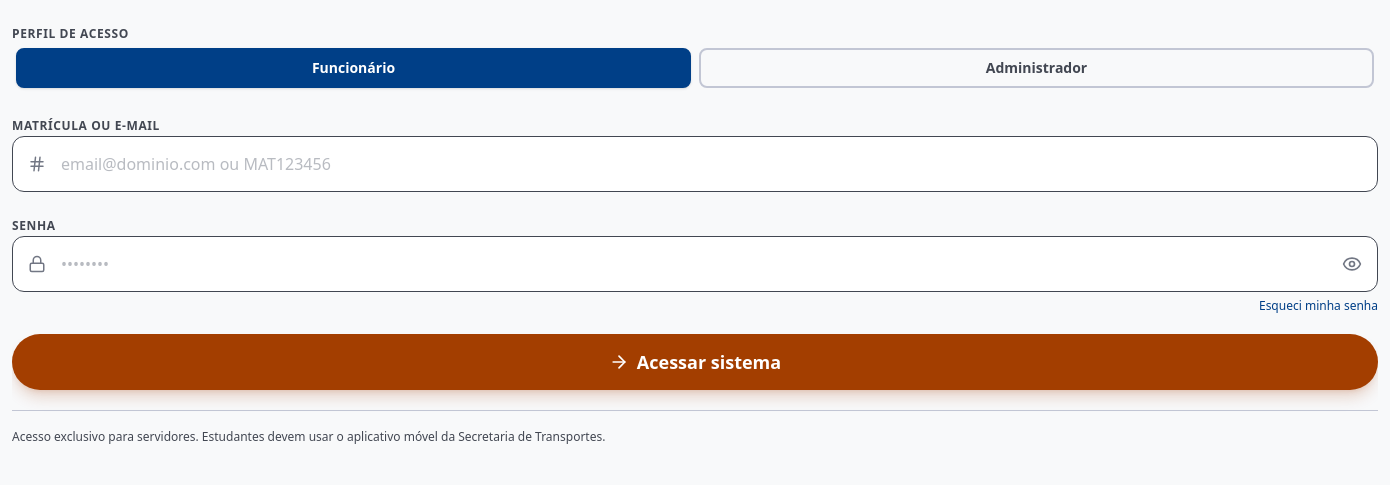
Scenario: EmployeeAdminLoginForm › deve exibir erro geral quando autenticacao falha
The image size is (1390, 485).
Type "MAT123456" into the field with placeholder "email@dominio.com ou MAT123456" at (695, 164), box x1=12 y1=136 x2=1378 y2=192
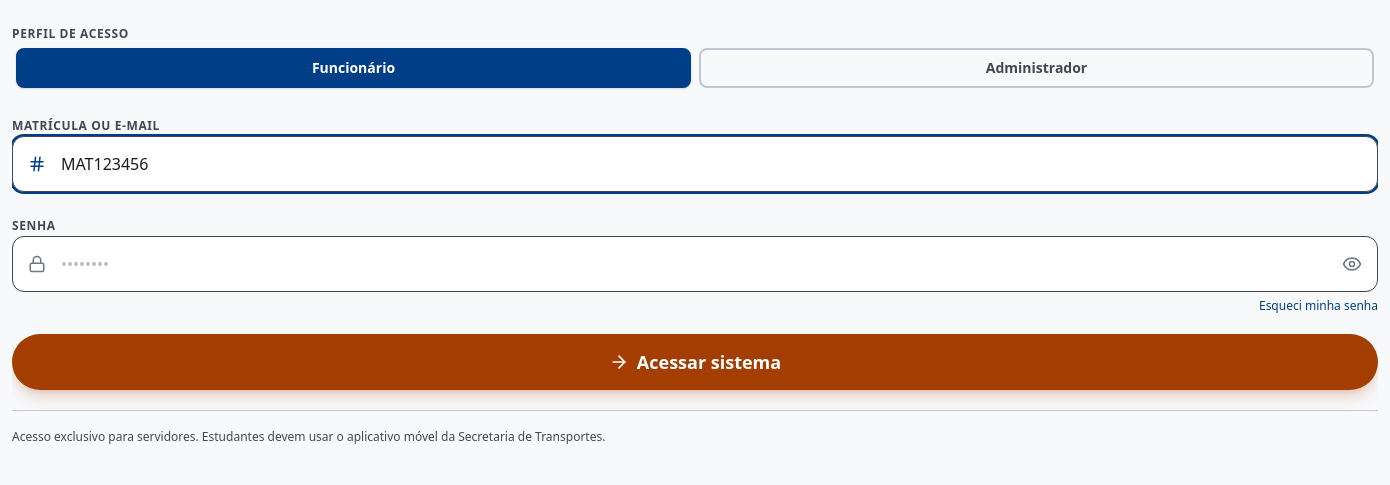
Type "Senha123" into the password field with placeholder "••••••••" at (695, 264), box x1=12 y1=236 x2=1378 y2=292
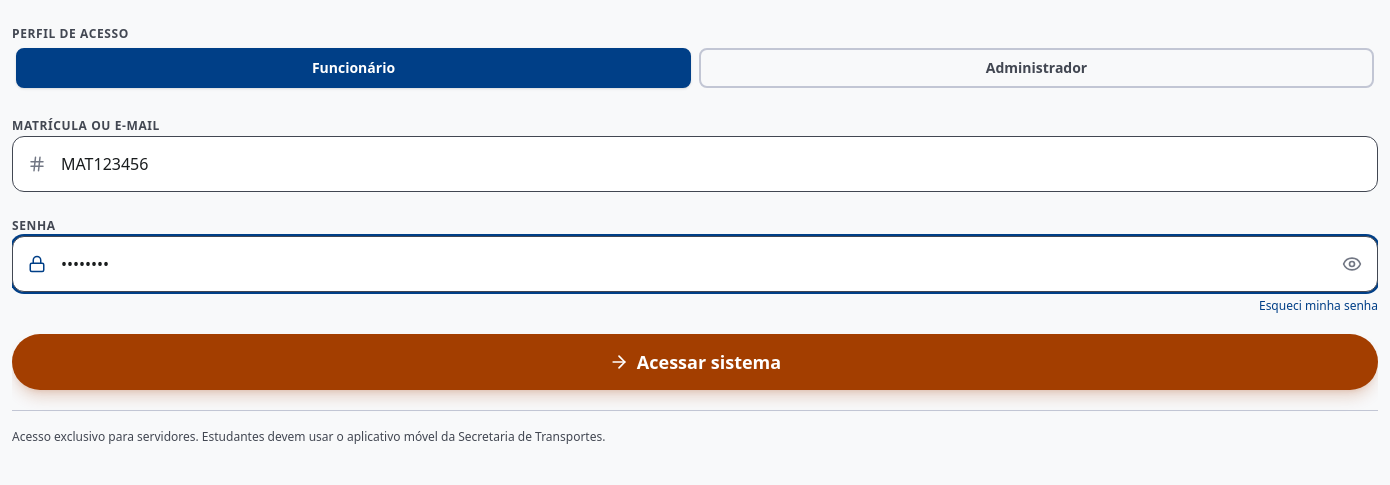
Click the button "Administrador" at (1036, 68), box x1=699 y1=48 x2=1374 y2=88
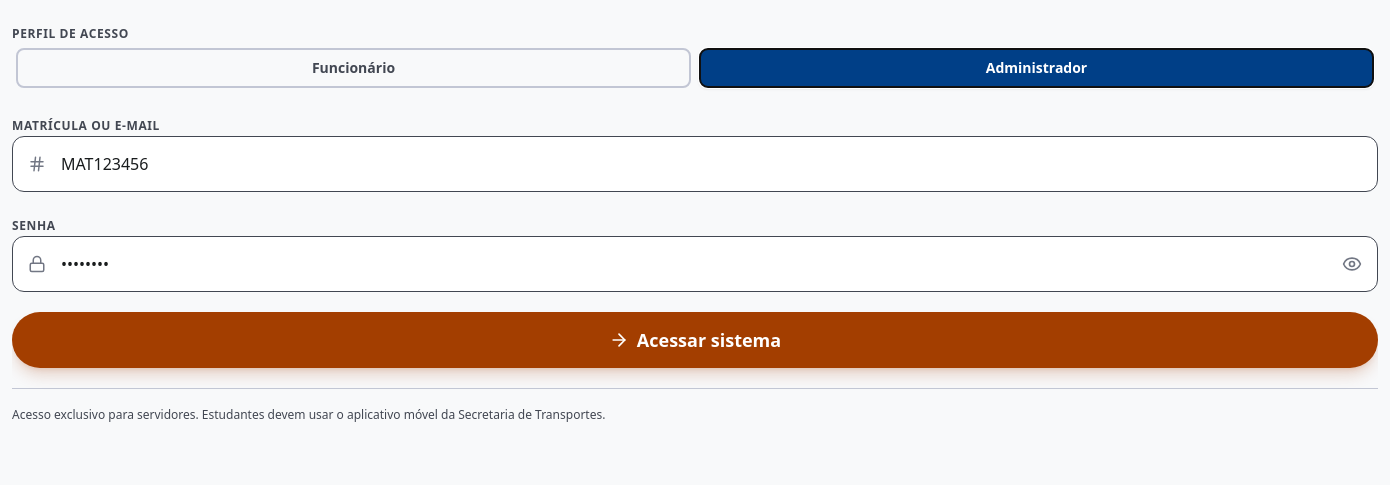
Click the button "Acessar sistema" at (695, 340), box x1=12 y1=312 x2=1378 y2=368
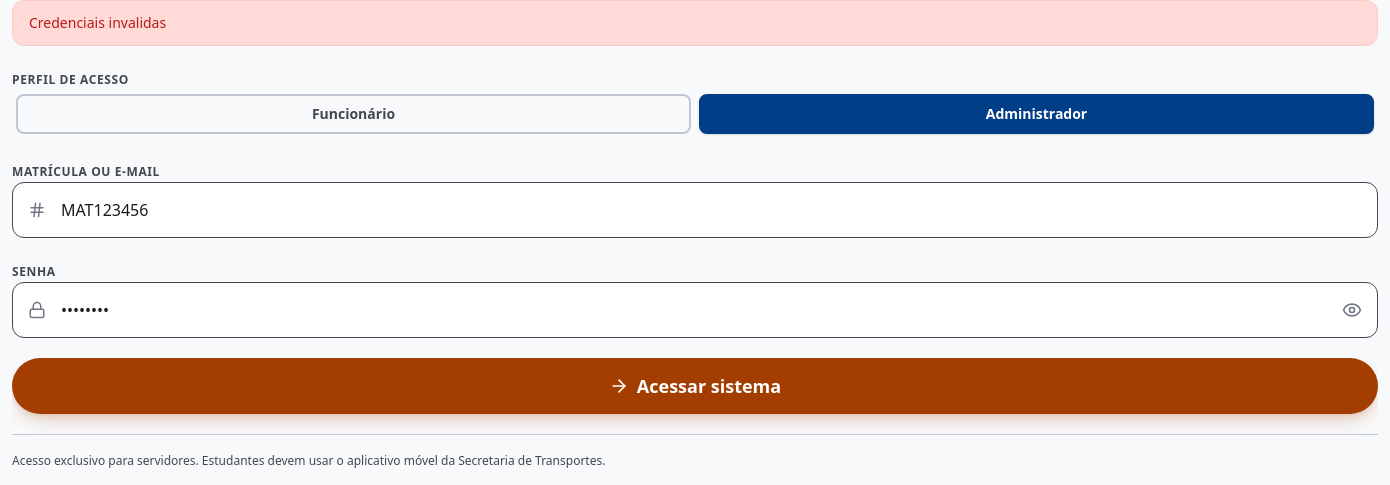
Now the text "Credenciais invalidas" is shown, box x1=12 y1=0 x2=1378 y2=46
